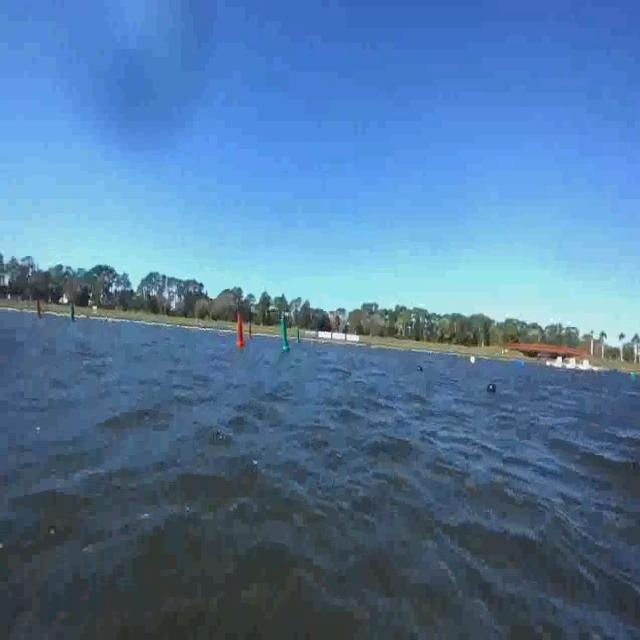black-buoy: (488, 381, 496, 393), (419, 364, 422, 371)
green-column-buoy: (282, 312, 290, 350)
red-column-buoy: (236, 312, 247, 346)
